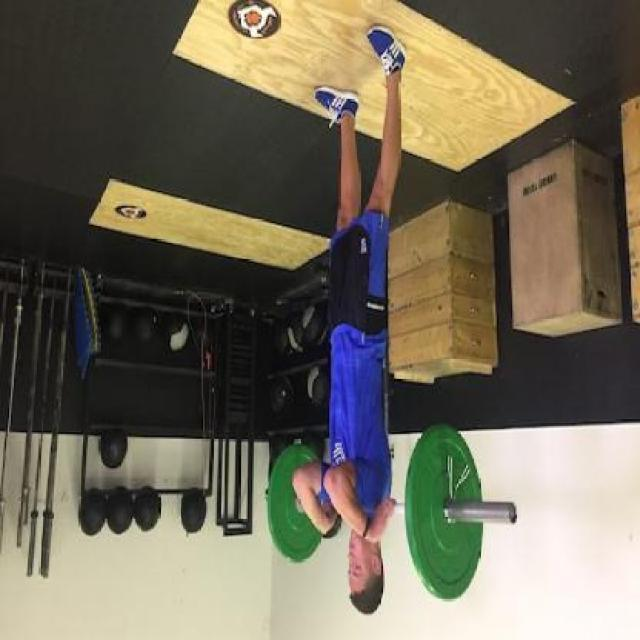Barbell: (507, 498, 521, 532)
